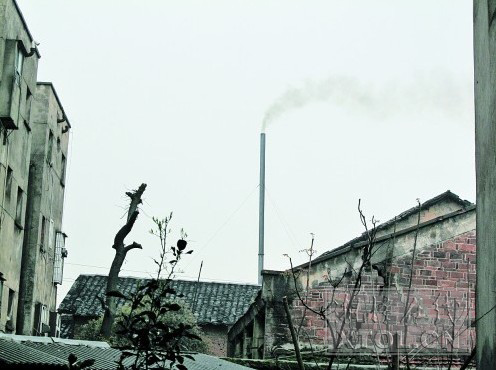dust: (253, 83, 347, 136)
